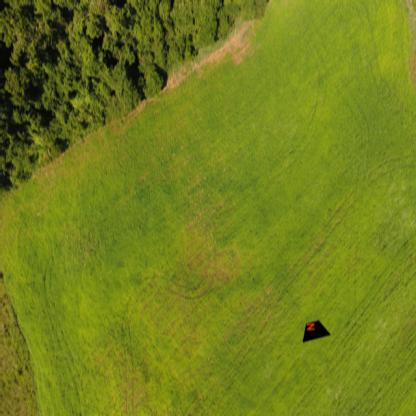N: (306, 321, 316, 332)
trapezium: (300, 318, 334, 350)
